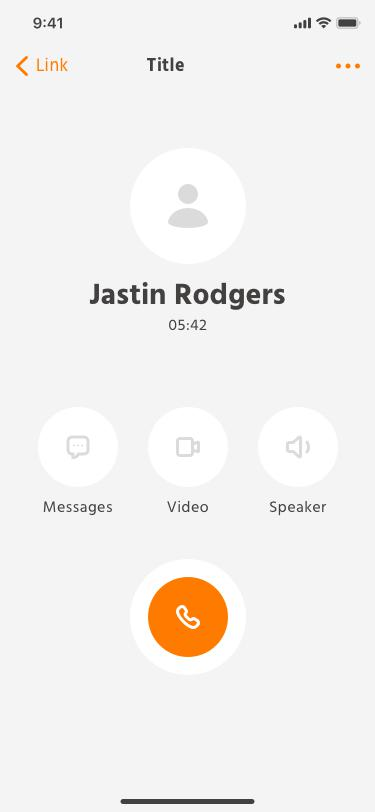Icon: (128, 145, 247, 266), (256, 406, 339, 488), (35, 408, 119, 489), (147, 576, 229, 658), (148, 407, 228, 488), (16, 56, 31, 79), (334, 62, 361, 72)
Text: (88, 281, 286, 311), (42, 500, 113, 517), (268, 500, 327, 516), (146, 55, 186, 73), (165, 499, 209, 513), (168, 317, 207, 332), (35, 56, 69, 73)
Toolbar: (1, 42, 375, 84)
UpperTaskBar: (33, 17, 362, 31)
